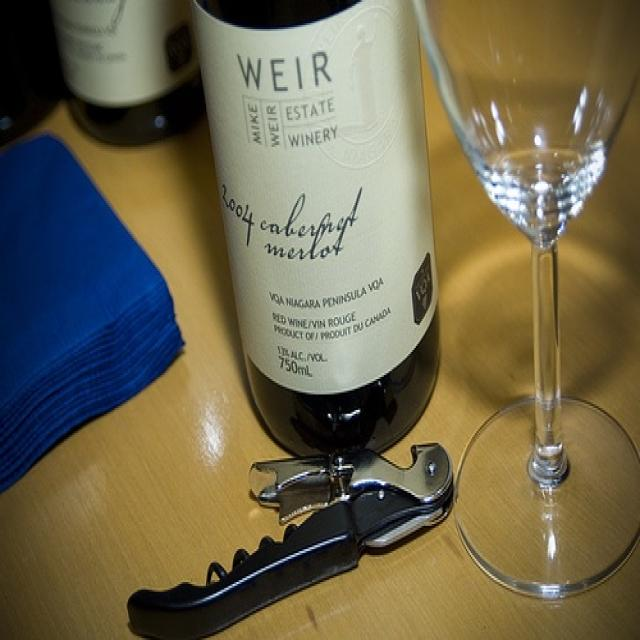bottle: (186, 0, 453, 478), (47, 2, 215, 151)
